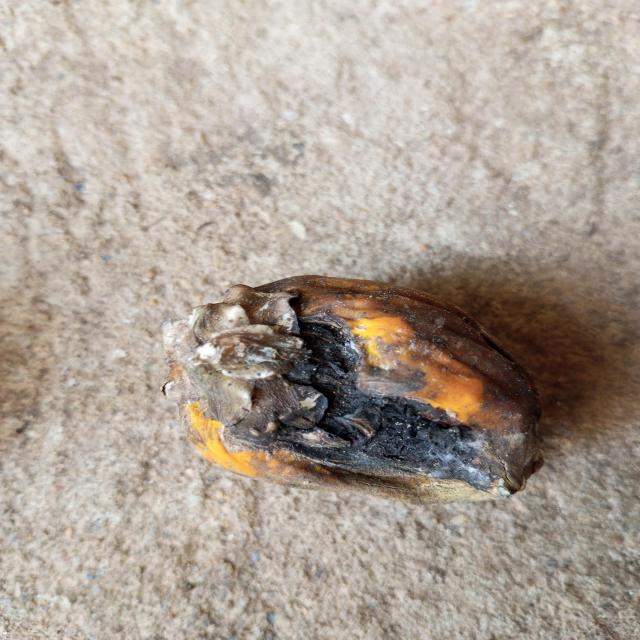damaged: (161, 276, 542, 503)
